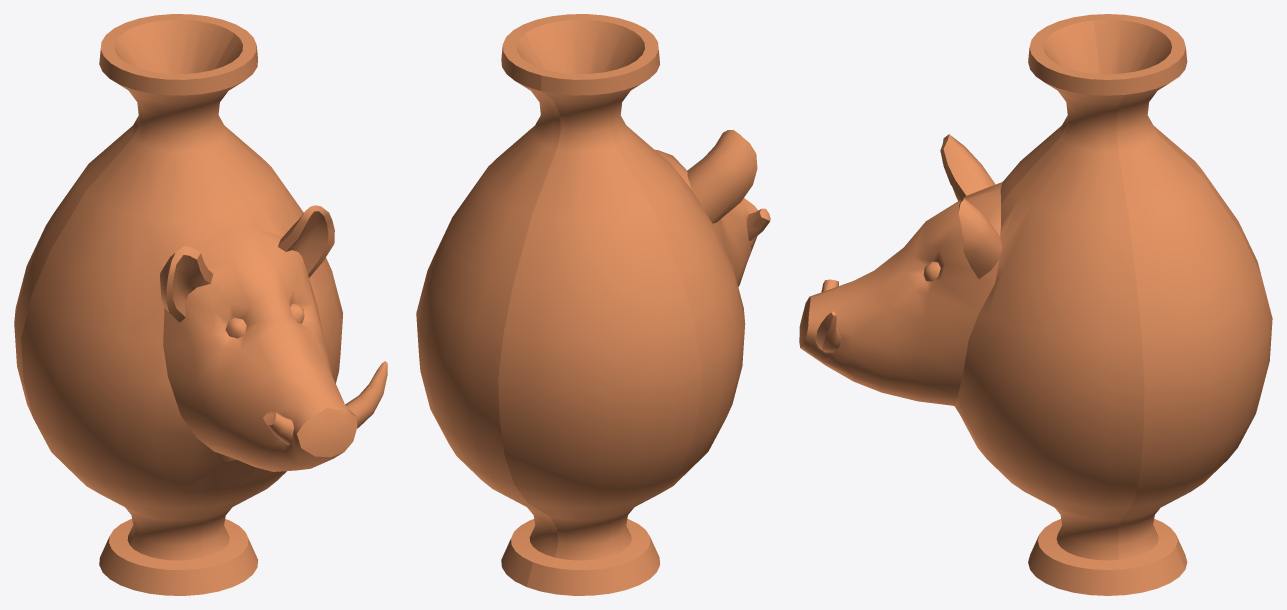
The model's file is SM_Boar_Cup_2.fbx.
3 renders of one model, left to right at view 1: azimuth 30°, elevation 25°; view 2: azimuth 150°, elevation 25°; view 3: azimuth 270°, elevation 25°, orthographic.
Parts seen in each view (by area): view 1: SM_Boar_Cup_2; view 2: SM_Boar_Cup_2; view 3: SM_Boar_Cup_2.
Boxes of the visible parts, x1,y1,x2,y2 form: SM_Boar_Cup_2: (14, 14, 387, 595); SM_Boar_Cup_2: (416, 14, 770, 595); SM_Boar_Cup_2: (799, 14, 1272, 595).
Size of the model in its own units: 0.3491 by 0.6018 by 0.5009.
